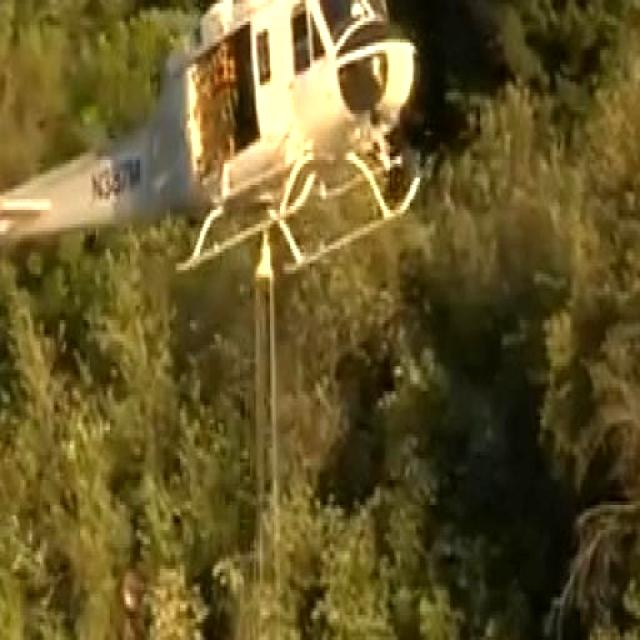drone: (0, 0, 425, 270)
